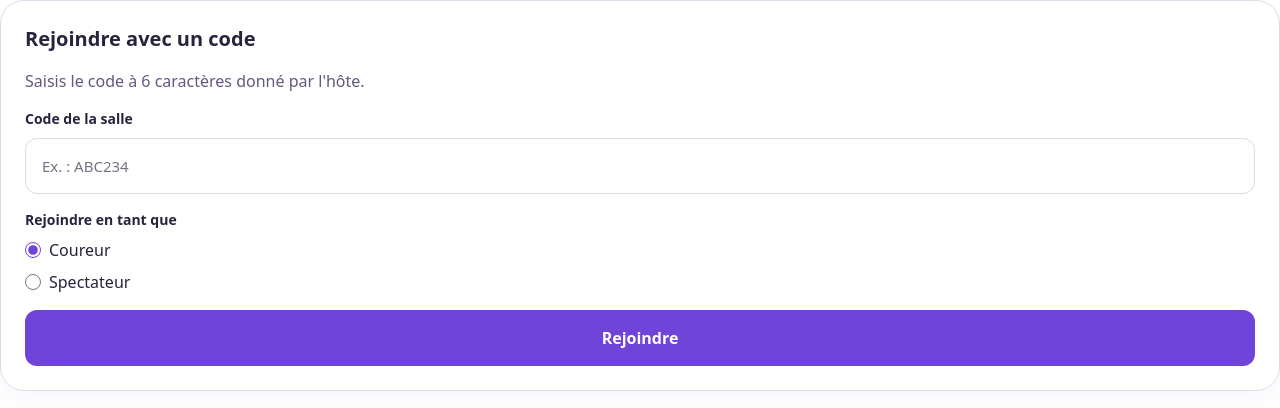
Test: formulaire « rejoindre avec un code » (fr) › met le code en majuscules, sans espaces ni tirets, sur 6 caractères au plus
The width and height of the screenshot is (1280, 408).
Type "abc-def" into the field labelled "Code de la salle". click: (640, 166)
box: [25,138,1255,194]
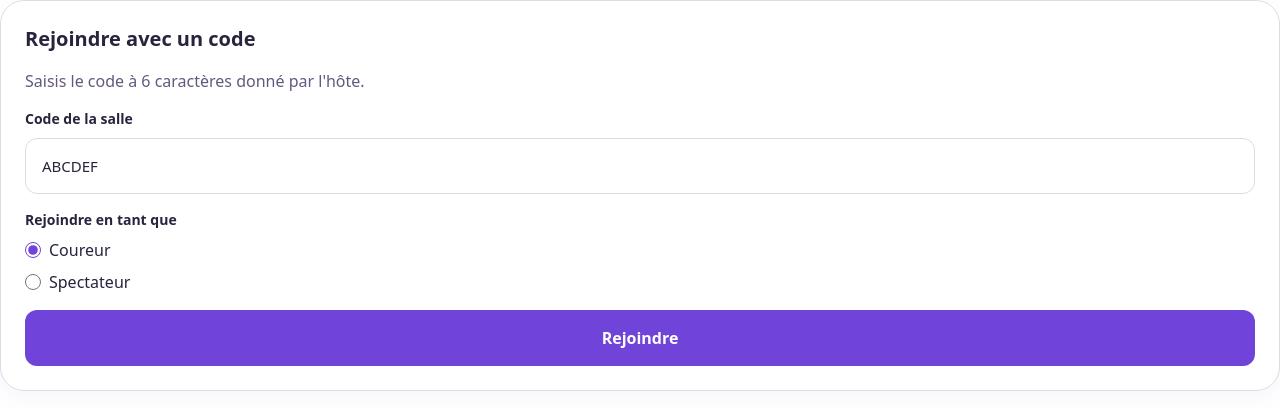
Check: the field labelled "Code de la salle" holds "ABCDEF"
Replace the text in the field labelled "Code de la salle" with " ab c2 ". click: (640, 166)
box: [25,138,1255,194]
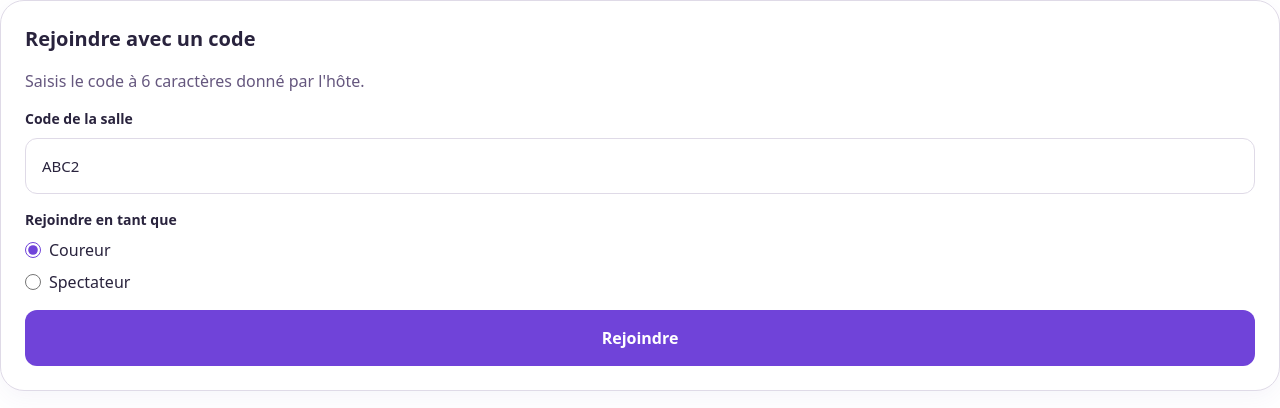
Check: the field labelled "Code de la salle" holds "ABC2"
Replace the text in the field labelled "Code de la salle" with "abcdefghij". click: (640, 166)
box: [25,138,1255,194]
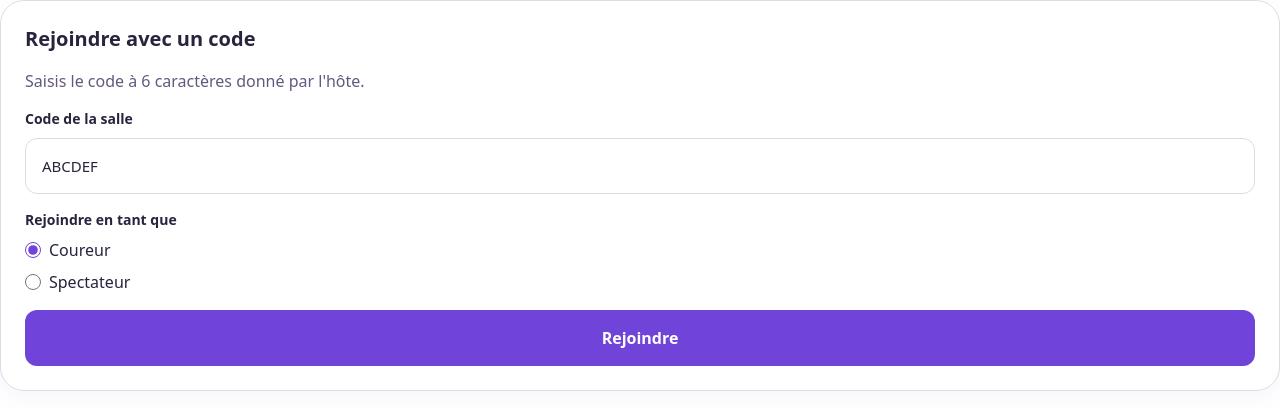
Check: the field labelled "Code de la salle" holds "ABCDEF", box [25,138,1255,194]
